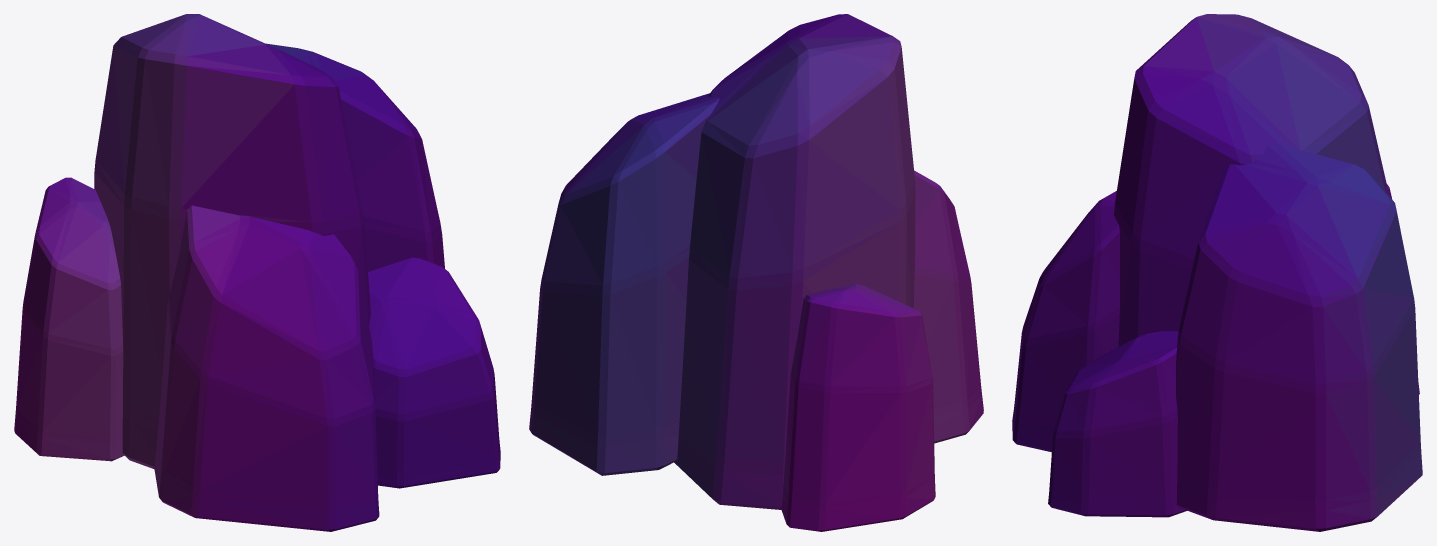
File: SM_CinderCanyon_Rock_D.fbx
3 renders of one model, left to right at view 1: azimuth 30°, elevation 25°; view 2: azimuth 150°, elevation 25°; view 3: azimuth 270°, elevation 25°, orthographic. The views are drawn at different scales.
Visible parts, largest first — view 1: SM_CinderCanyon_Rock_D; view 2: SM_CinderCanyon_Rock_D; view 3: SM_CinderCanyon_Rock_D.
Boxes of the visible parts, x1,y1,x2,y2 form: SM_CinderCanyon_Rock_D: (14, 14, 500, 531); SM_CinderCanyon_Rock_D: (529, 14, 983, 531); SM_CinderCanyon_Rock_D: (1012, 14, 1422, 531).
Bounding box in the file's own units: 100 × 96 × 100.
